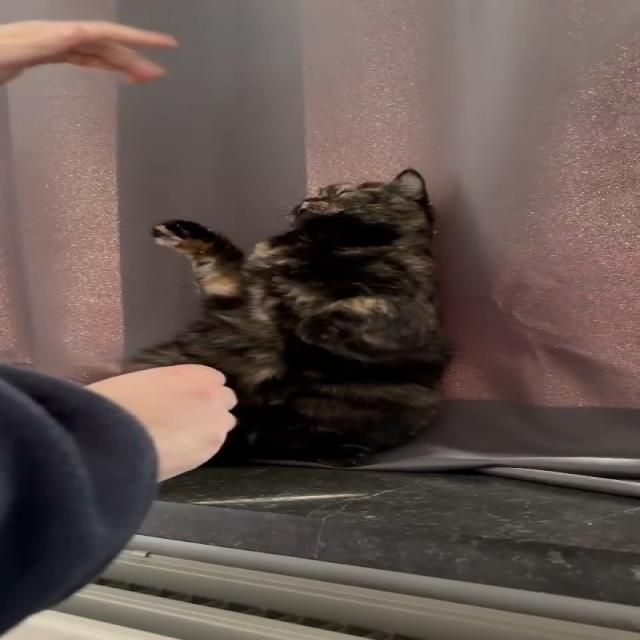authorized: (117, 167, 456, 468)
